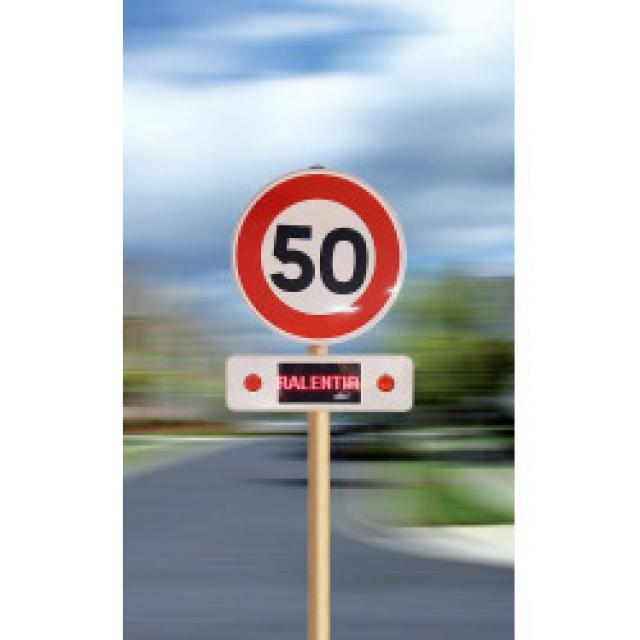speed_50: (231, 170, 410, 348)
